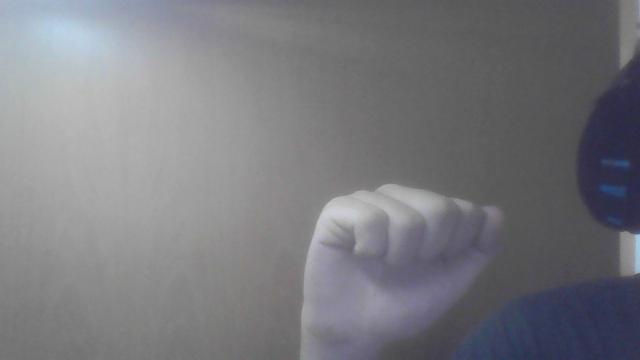forward: (299, 182, 505, 358)
